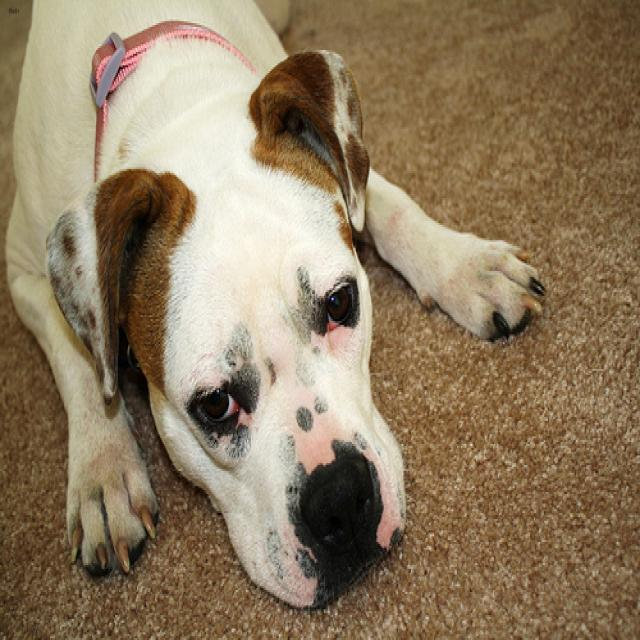dog-american_bulldog: (1, 2, 556, 627)
